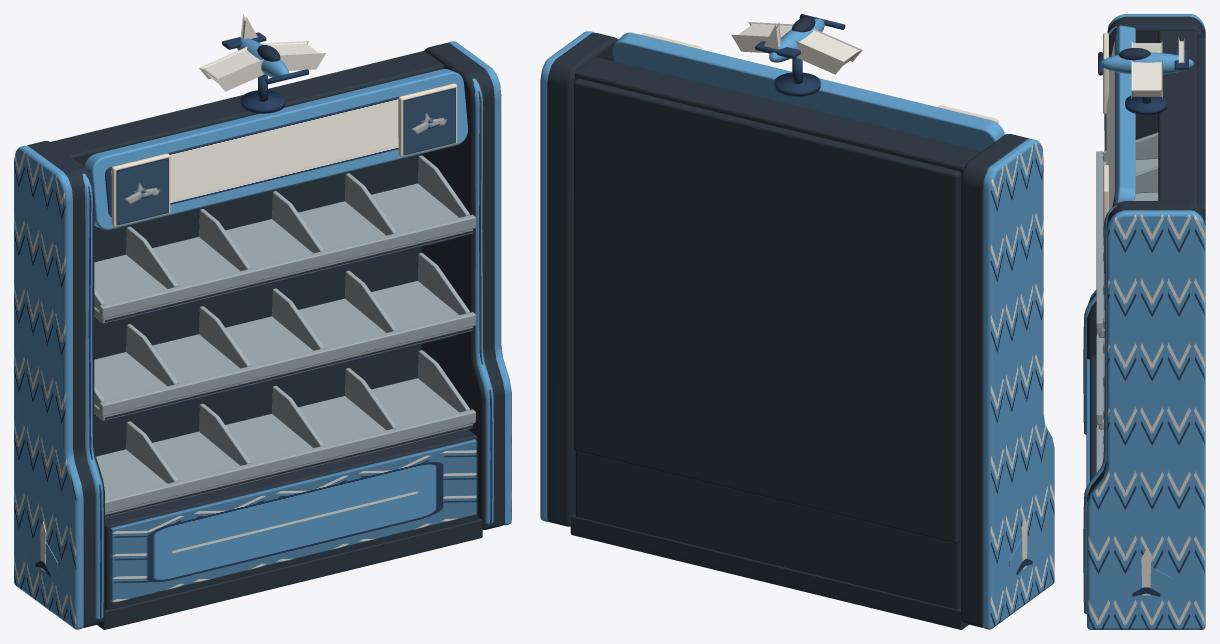
File: TH_AVIATION.fbx
3 views of the same model, side by side, from view 1: azimuth 30°, elevation 25°; view 2: azimuth 150°, elevation 25°; view 3: azimuth 270°, elevation 25° (orthographic). The views are drawn at different scales.
Visible parts, largest first — view 1: BaseFrontInset, Left_PaintedPanel, BackPanel.001, Right_StructuralWall, Tray_02, Tray_01, Tray_03, HeaderFace, HeaderBorder, TopCrossRail, Left_StructuralWall, ClosedSolidBase (+33 smaller); view 2: BackPanel.001, Left_PaintedPanel, ClosedSolidBase, Right_StructuralWall, HeaderBorder, Left_StructuralWall, TopCrossRail, LowerPlinth, Right_PaintedPanel, Aircraft wings, TopperMount; view 3: Right_PaintedPanel, TopCrossRail, Left_StructuralWall, HeaderBorder, Aircraft wings, BackPanel.001, FrontLip_01, HeaderFace, RightHousing, Right_StructuralWall, Aircraft fuselage, ClosedSolidBase (+16 smaller).
Part boxes in pixels (x1=…): BaseFrontInset: x1=110, y1=439, x2=476, y2=602; Left_PaintedPanel: x1=14, y1=145, x2=83, y2=629; BackPanel.001: x1=94, y1=154, x2=421, y2=456; Right_StructuralWall: x1=421, y1=43, x2=504, y2=529; Tray_02: x1=94, y1=281, x2=472, y2=420; Tray_01: x1=94, y1=183, x2=472, y2=323; Tray_03: x1=96, y1=378, x2=472, y2=517; HeaderFace: x1=105, y1=85, x2=443, y2=216; HeaderBorder: x1=84, y1=69, x2=467, y2=230; TopCrossRail: x1=51, y1=51, x2=444, y2=166; Left_StructuralWall: x1=27, y1=141, x2=104, y2=627; ClosedSolidBase: x1=105, y1=429, x2=477, y2=609; BackPanel.001: x1=574, y1=78, x2=961, y2=543; Left_PaintedPanel: x1=982, y1=139, x2=1054, y2=629; ClosedSolidBase: x1=575, y1=451, x2=960, y2=609; Right_StructuralWall: x1=547, y1=33, x2=618, y2=526; HeaderBorder: x1=613, y1=32, x2=1004, y2=151; Left_StructuralWall: x1=961, y1=134, x2=1029, y2=627; TopCrossRail: x1=575, y1=57, x2=981, y2=178; LowerPlinth: x1=570, y1=513, x2=968, y2=629; Right_PaintedPanel: x1=540, y1=31, x2=595, y2=521; Aircraft wings: x1=731, y1=22, x2=862, y2=74; TopperMount: x1=774, y1=72, x2=820, y2=96; Right_PaintedPanel: x1=1087, y1=210, x2=1205, y2=629; TopCrossRail: x1=1158, y1=30, x2=1197, y2=203; Left_StructuralWall: x1=1087, y1=16, x2=1205, y2=359; HeaderBorder: x1=1115, y1=25, x2=1135, y2=204; Aircraft wings: x1=1131, y1=40, x2=1162, y2=98; BackPanel.001: x1=1198, y1=37, x2=1205, y2=216; FrontLip_01: x1=1096, y1=151, x2=1103, y2=333; HeaderFace: x1=1106, y1=38, x2=1116, y2=210; RightHousing: x1=1083, y1=205, x2=1116, y2=614; Right_StructuralWall: x1=1087, y1=201, x2=1205, y2=502; Aircraft fuselage: x1=1101, y1=52, x2=1194, y2=74; ClosedSolidBase: x1=1090, y1=355, x2=1096, y2=481.
Size of the model in its own units: 3.62 by 4.19 by 0.9273.
